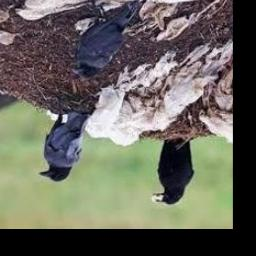Crow: (71, 0, 140, 79), (37, 111, 90, 182), (153, 139, 193, 205)
